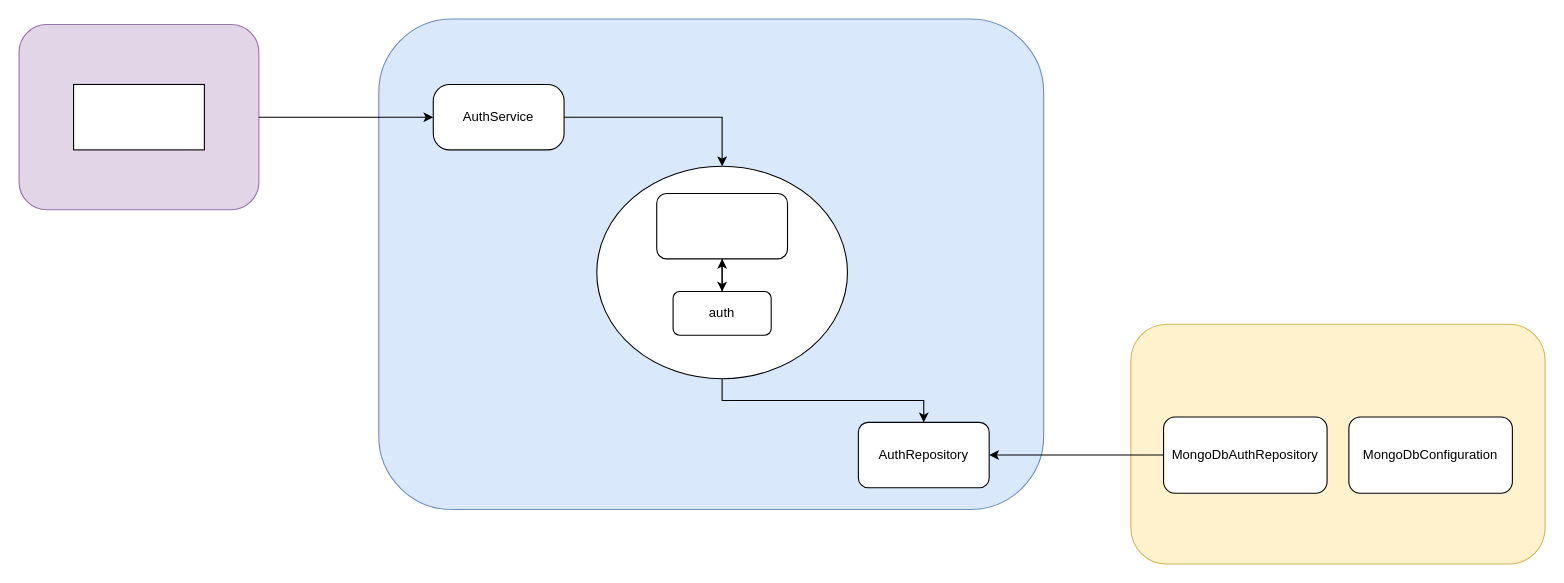
The diagram is 1564 pixels wide and 583 high, and some of its shapes have lost their labels. Here are the shapes that lost their labels. From the top down, the box of each, then its label:
(72, 83, 204, 150): Authcontroller
(656, 192, 788, 259): DomainAuthService
